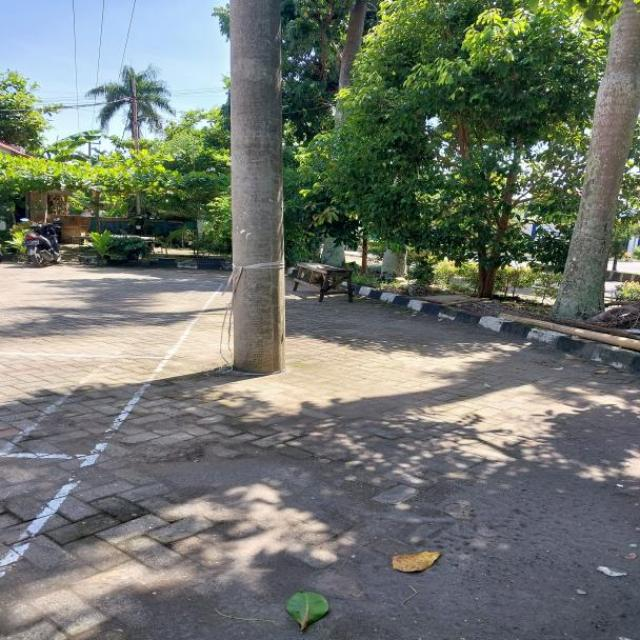tree ahead at: (223, 0, 296, 379)
